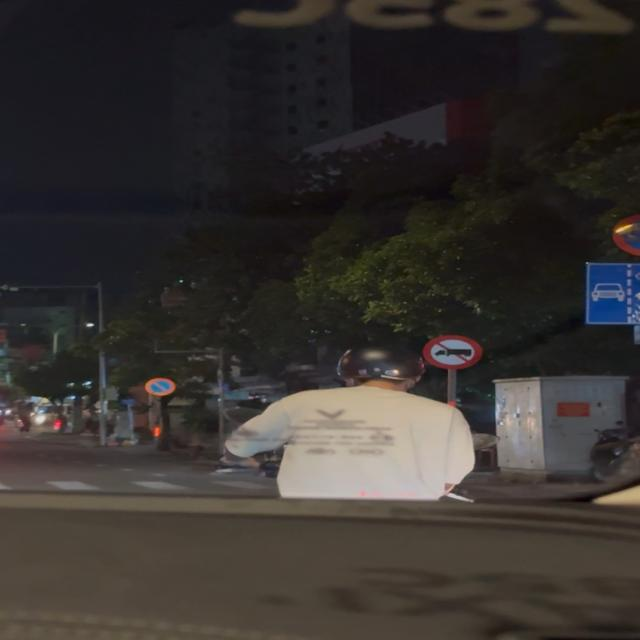Bien bao cam do xe: (140, 377, 182, 396)
Bien bao cam xe so-mi ro-mooc: (417, 332, 487, 372)
